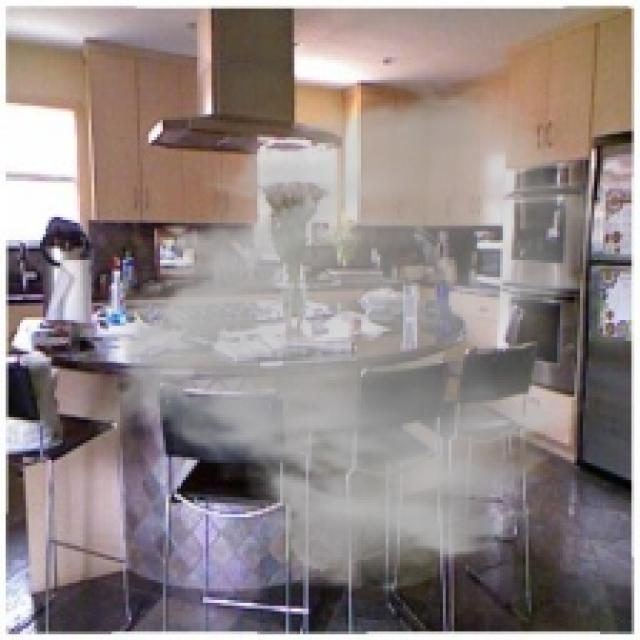smoke: (86, 80, 608, 597)
